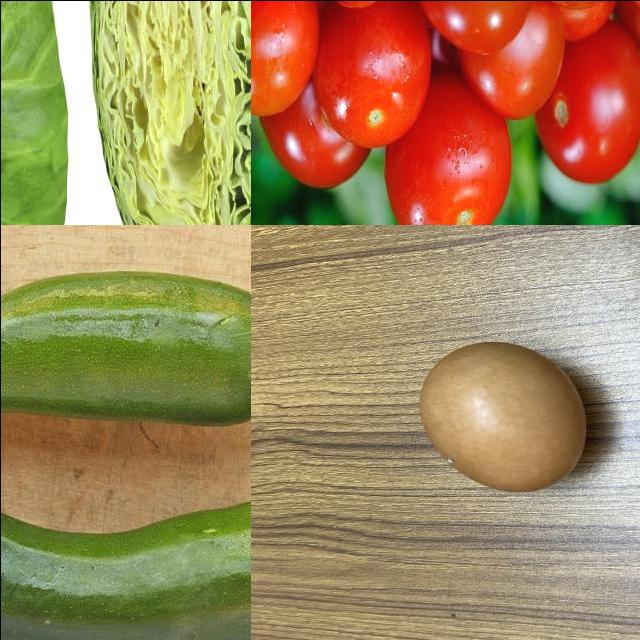bell_pepper: (1, 463, 251, 640)
cabbage: (86, 1, 251, 225), (1, 1, 72, 225)
egg: (408, 335, 598, 496)
tomato: (387, 72, 516, 225), (535, 24, 640, 187), (318, 1, 432, 148), (256, 80, 372, 192), (459, 1, 559, 123), (251, 1, 319, 116), (415, 1, 531, 56)
zucchini: (1, 259, 251, 468)
